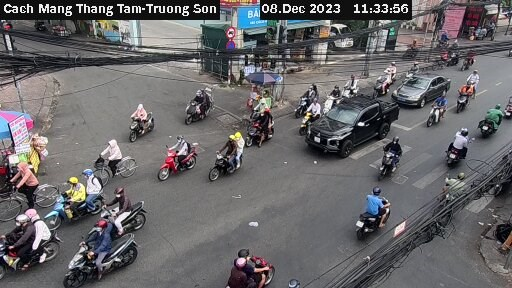car: (305, 94, 401, 156), (395, 72, 450, 109)
motorbike: (66, 233, 140, 285), (1, 217, 58, 278), (211, 251, 288, 288), (48, 169, 104, 219), (90, 192, 149, 239), (206, 137, 253, 190), (151, 138, 203, 182), (348, 187, 392, 237), (362, 132, 405, 177), (439, 121, 477, 171), (178, 82, 220, 124), (241, 111, 281, 153), (437, 168, 469, 220), (118, 101, 160, 136), (471, 99, 503, 139), (426, 94, 456, 136), (460, 64, 490, 96), (369, 64, 395, 96), (295, 84, 322, 110), (453, 88, 476, 117), (338, 73, 364, 98)
